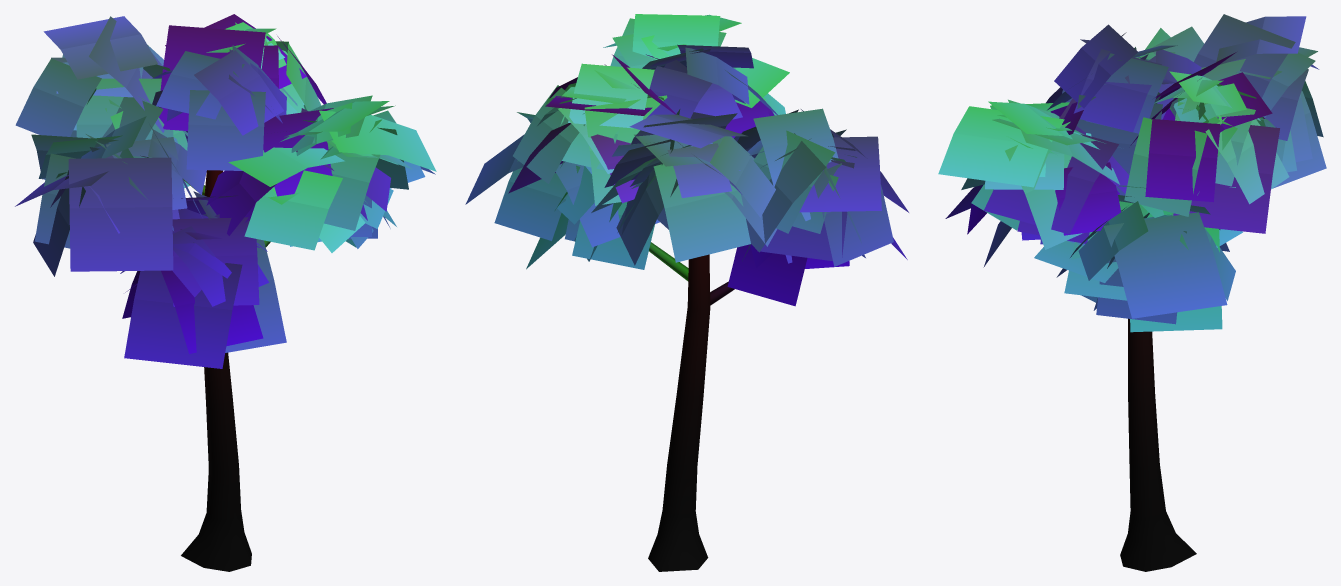
The model's file is Jungle1_LOD1.fbx.
3 renders of one model, left to right at view 1: azimuth 30°, elevation 25°; view 2: azimuth 150°, elevation 25°; view 3: azimuth 270°, elevation 25°, orthographic.
Visible parts, largest first — view 1: Jungle1_Lite; view 2: Jungle1_Lite; view 3: Jungle1_Lite.
Part boxes in pixels (x1,y1,x2,y2): Jungle1_Lite: (15,14,436,571); Jungle1_Lite: (465,14,908,571); Jungle1_Lite: (938,14,1326,571).
Bounding box in the file's own units: 18.45 × 21.9 × 15.1.
